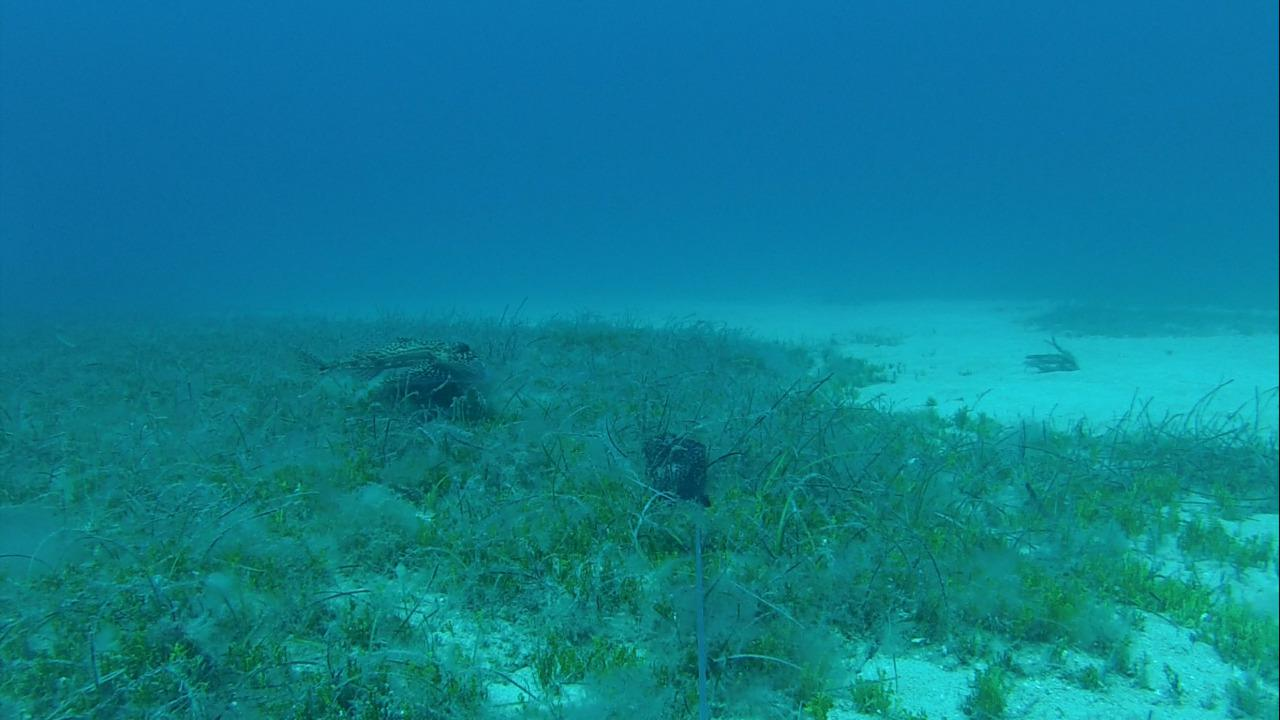dactylopterus: (294, 331, 481, 397)
